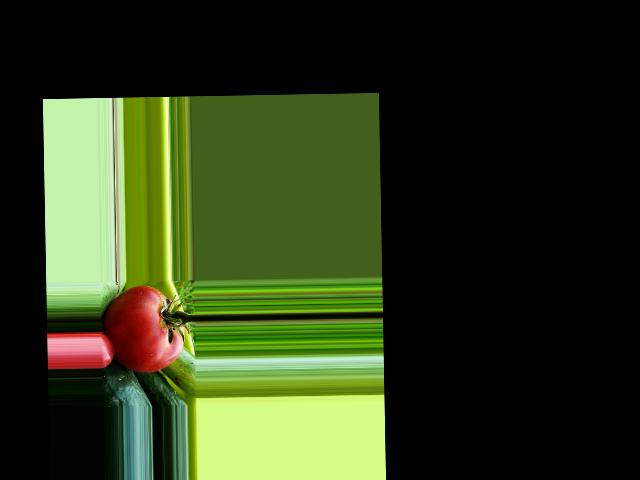tomato: (101, 284, 184, 373)
